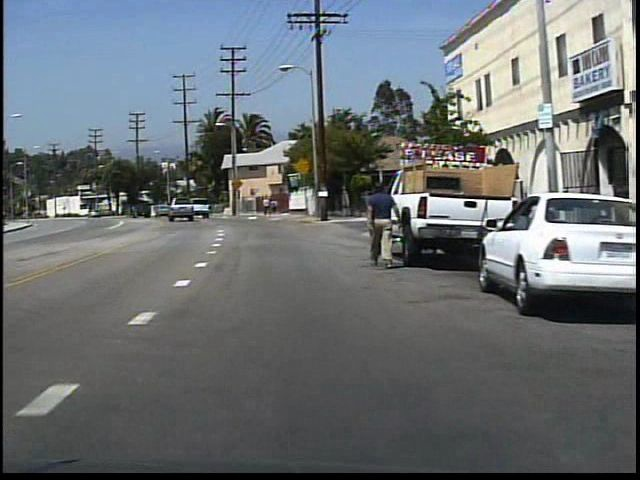person: (359, 178, 403, 271), (261, 194, 271, 217), (270, 197, 280, 216)
